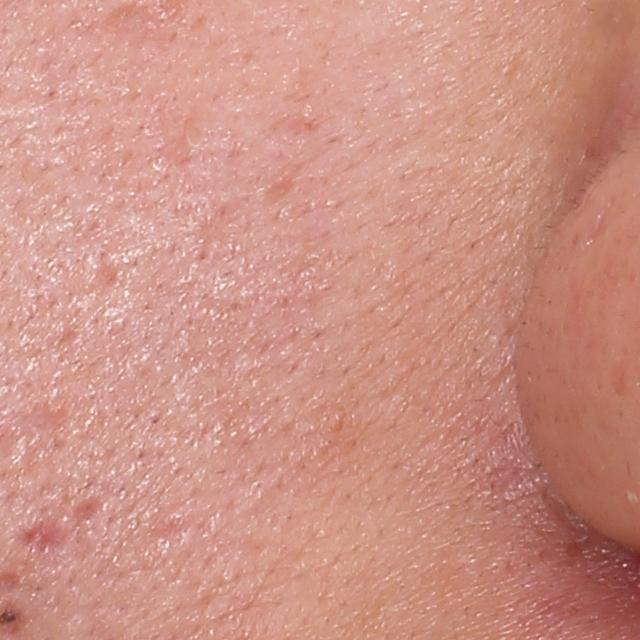atrophic_scar: (17, 511, 79, 555), (70, 489, 107, 524), (93, 244, 121, 289)
